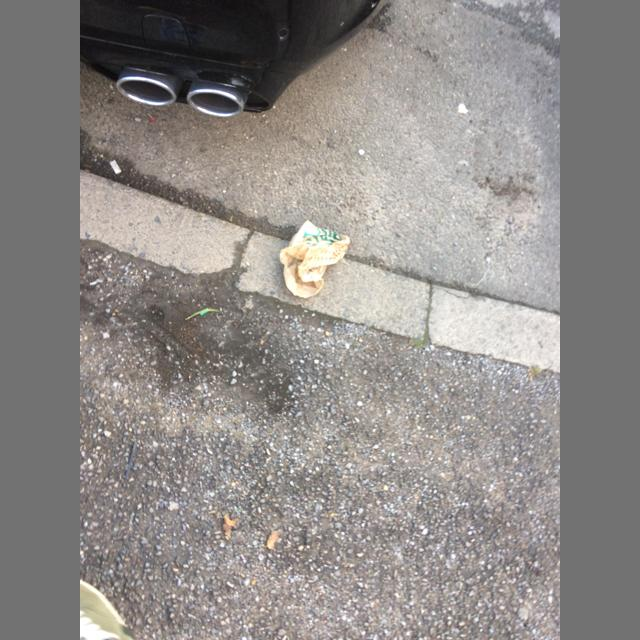litter: (280, 221, 350, 298), (109, 160, 121, 174)
